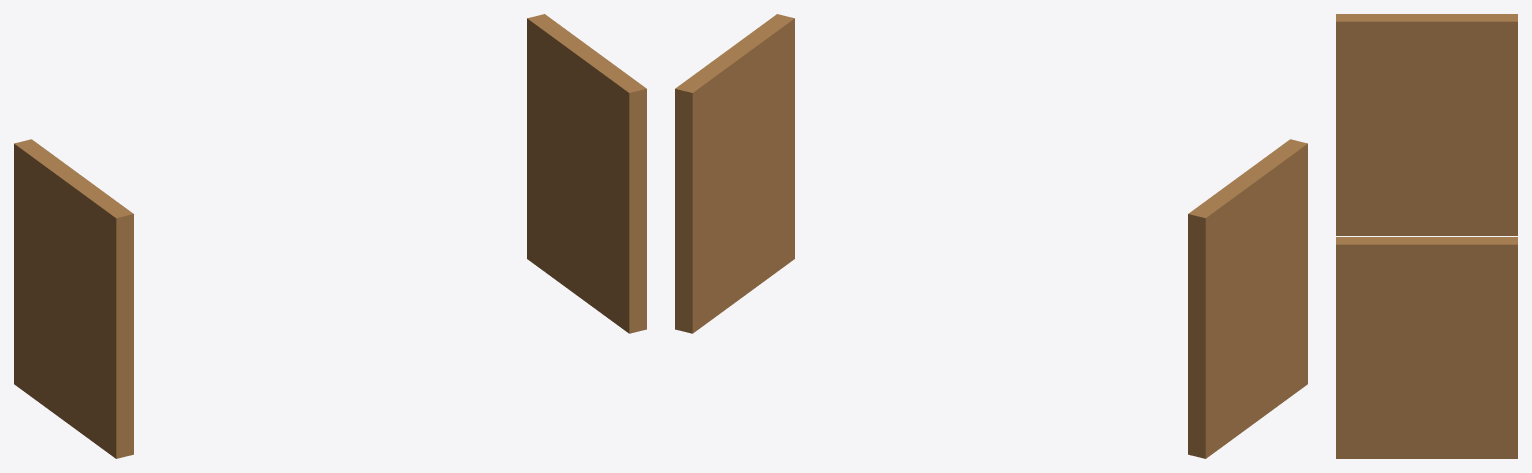
Rendered from MIDDLE_CENTRE.glb.
3 renders of one model, left to right at view 1: azimuth 30°, elevation 25°; view 2: azimuth 150°, elevation 25°; view 3: azimuth 270°, elevation 25°, orthographic. The views are drawn at different scales.
Bounding box in the file's own units: 6 × 2.6 × 2.
